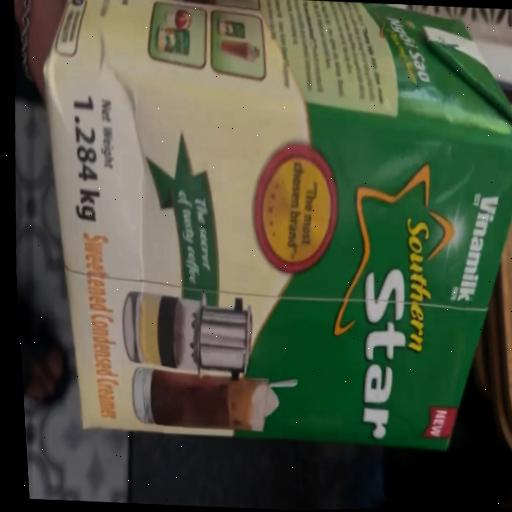ly_giay: (43, 0, 512, 450)
